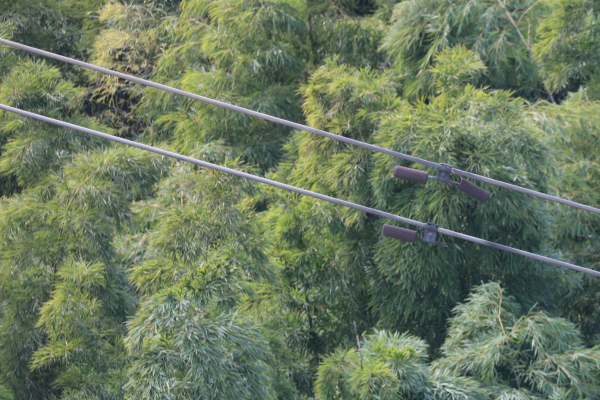damper: (392, 159, 492, 203)
damper_defect: (380, 218, 455, 250)
